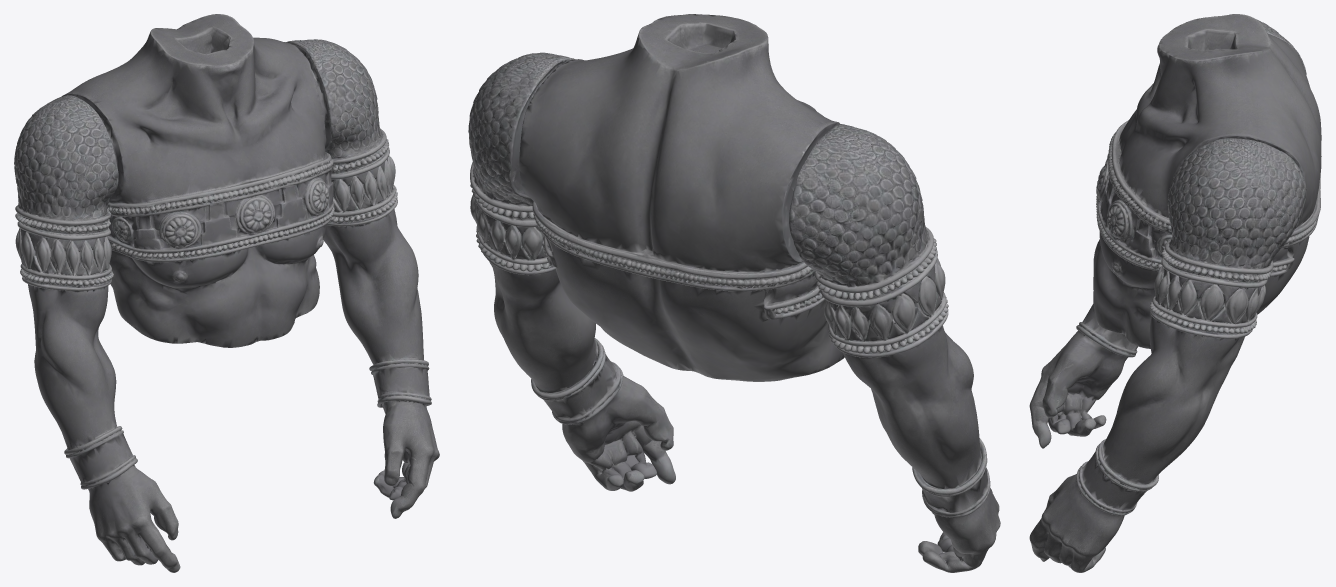
Rendered from silver_chest.glb.
3 renders of one model, left to right at view 1: azimuth 30°, elevation 25°; view 2: azimuth 150°, elevation 25°; view 3: azimuth 270°, elevation 25°, orthographic. The views are drawn at different scales.
Bounding box in the file's own units: 1.64 × 1.9 × 1.07.
1 material, 1 textured.
